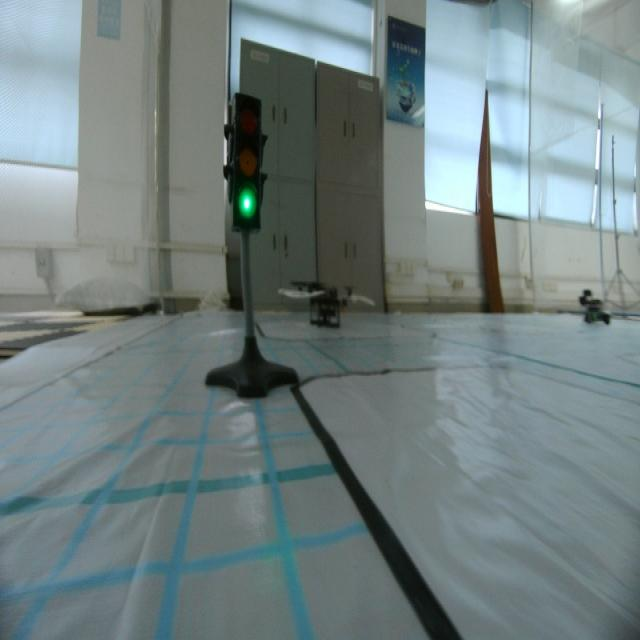green: (228, 92, 267, 231)
